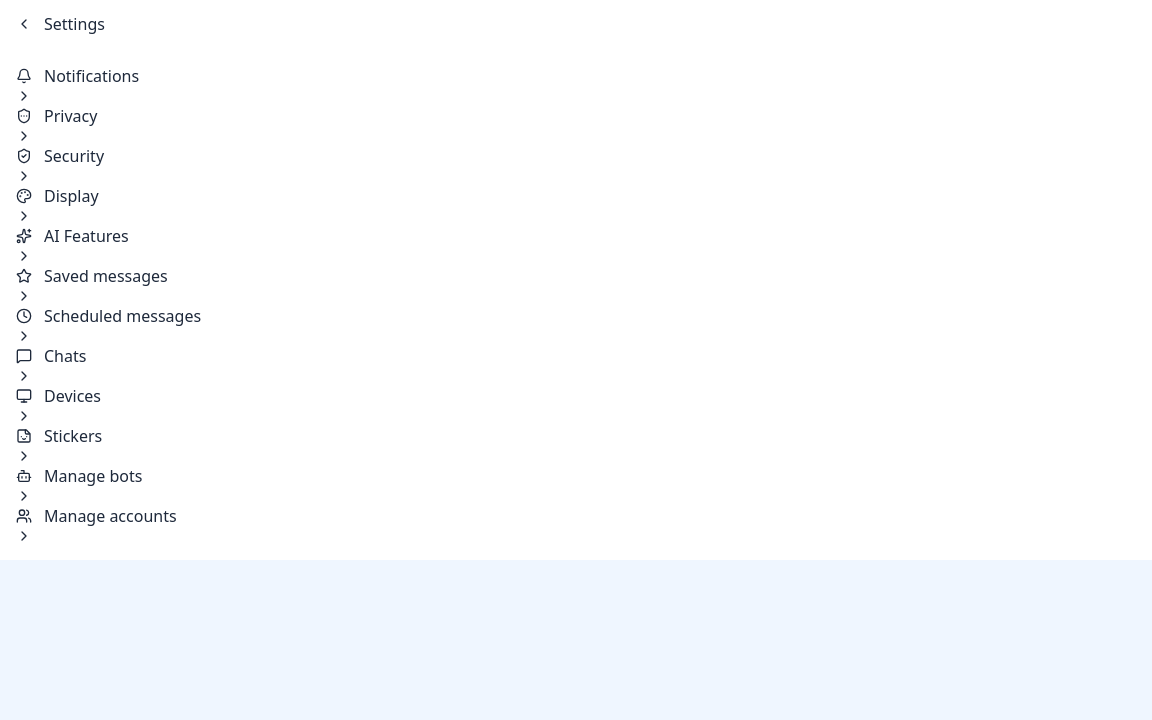
Test: settings hub stack › shows scheduled rows without a matching chat
Click the button "Scheduled messages" at (123, 316), box [16,304,1136,344]
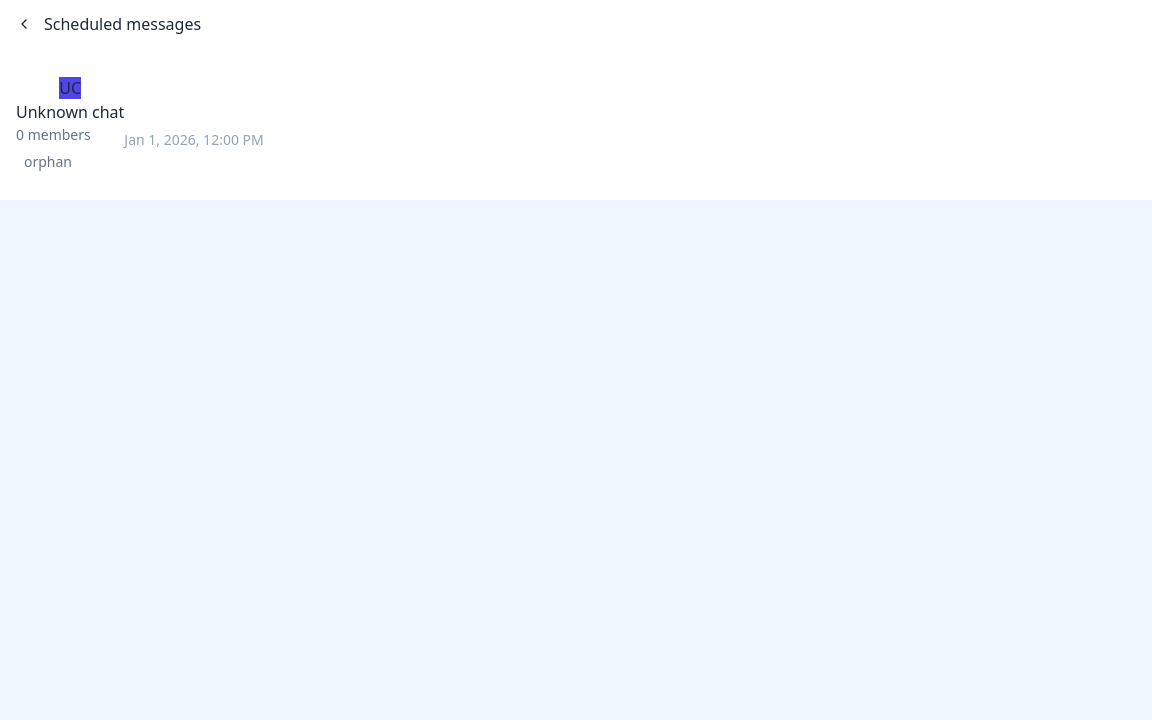
Expected: the text "orphan" is shown, [24,152,72,171]
Expected: the text "Scheduled messages" is shown, [44,12,201,36]
